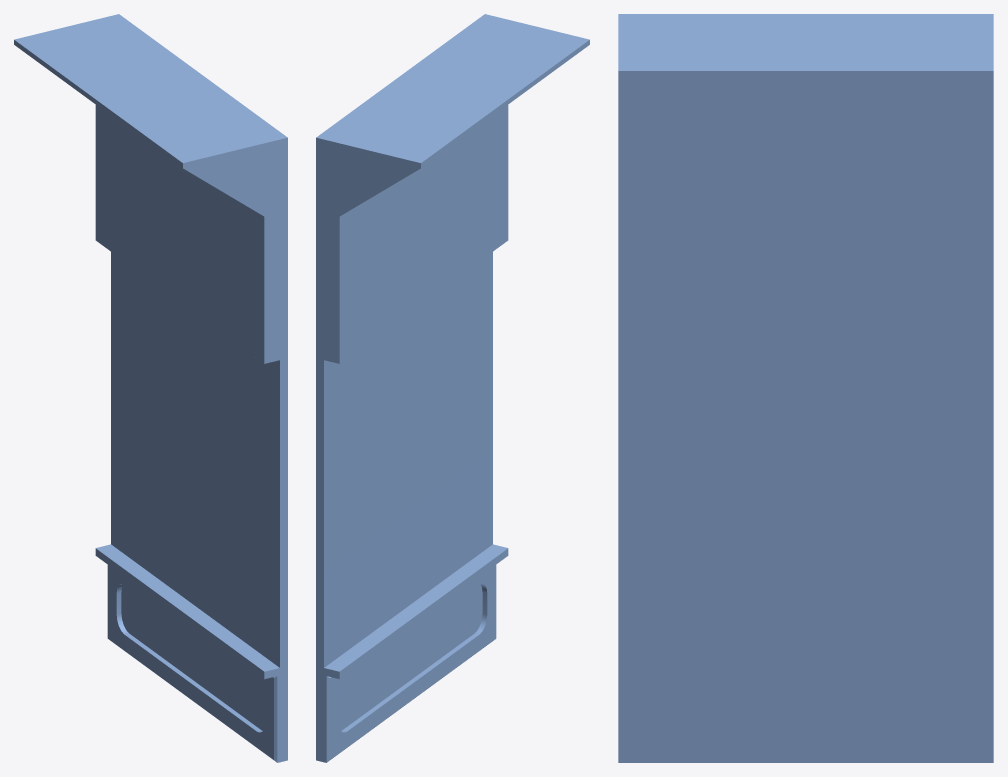
The model's file is BasementTallWallC.fbx.
3 views of the same model, side by side, from view 1: azimuth 30°, elevation 25°; view 2: azimuth 150°, elevation 25°; view 3: azimuth 270°, elevation 25° (orthographic). The views are drawn at different scales.
Parts seen in each view (by area): view 1: BasementTallWallC; view 2: BasementTallWallC; view 3: BasementTallWallC.
Boxes of the visible parts, left/top/right/bottom form: BasementTallWallC: left=14, top=14, right=287, bottom=762; BasementTallWallC: left=316, top=14, right=589, bottom=762; BasementTallWallC: left=618, top=14, right=993, bottom=762.
Size of the model in its own units: 132 by 749 by 368.
